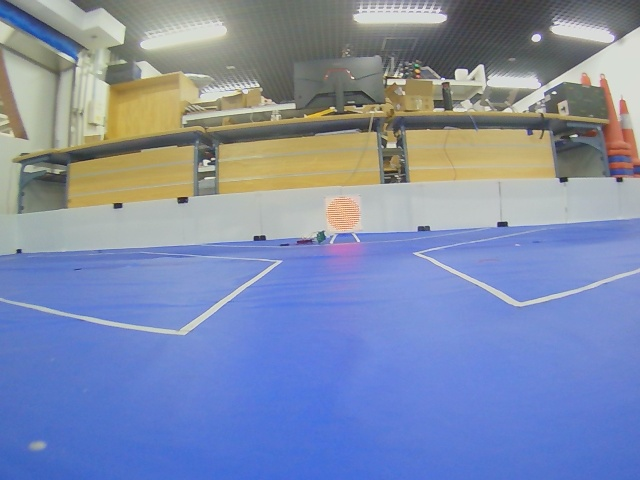red: (325, 195, 362, 234)
